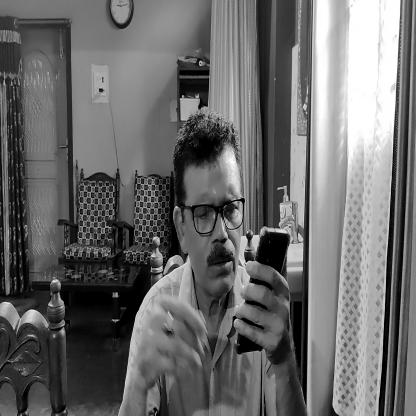Distracted: (169, 110, 245, 296)
